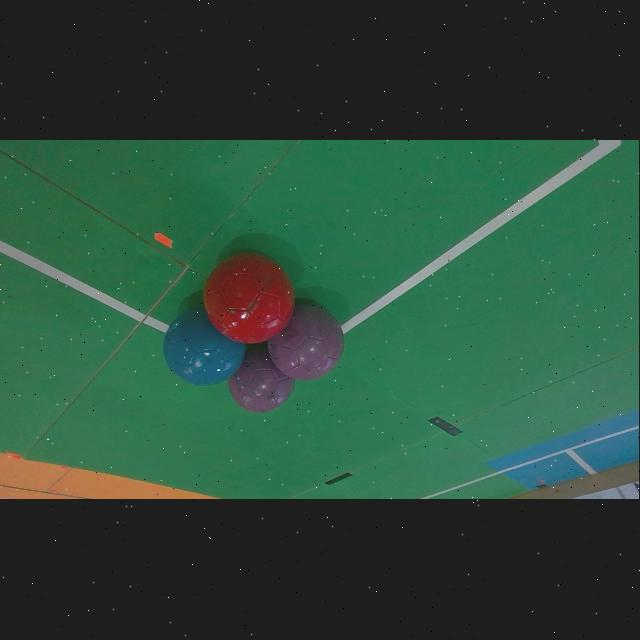B: (163, 308, 246, 386)
P: (269, 302, 344, 381), (228, 345, 296, 413)
R: (204, 253, 294, 344)
